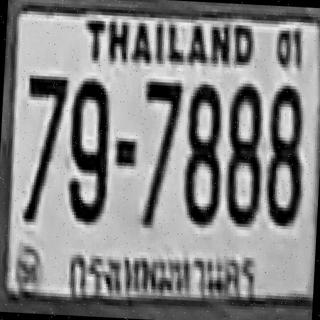N07: (21, 72, 68, 220), (137, 78, 182, 226), (138, 78, 182, 211), (140, 78, 182, 178)
N08: (180, 80, 223, 222), (223, 80, 264, 224), (264, 82, 304, 224)
N09: (66, 75, 111, 223)
P04: (62, 239, 264, 306)
